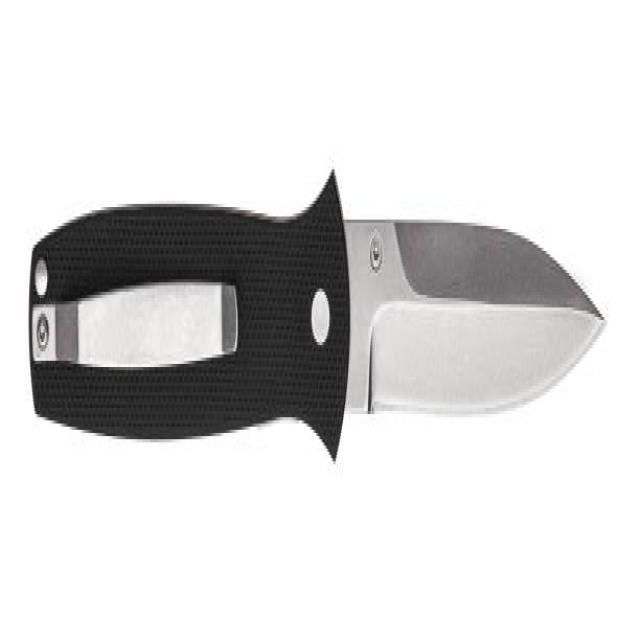knife: (25, 158, 609, 466)
